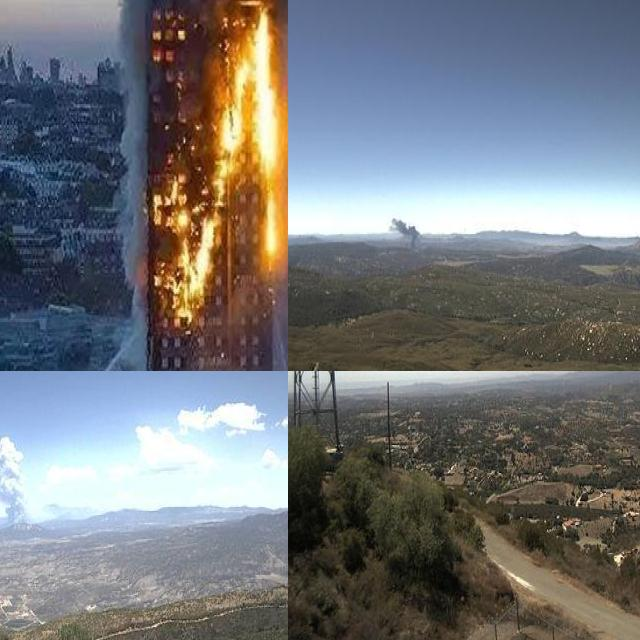fire: (147, 0, 278, 323)
smoke: (117, 0, 143, 330), (0, 432, 36, 529), (385, 213, 424, 254)
